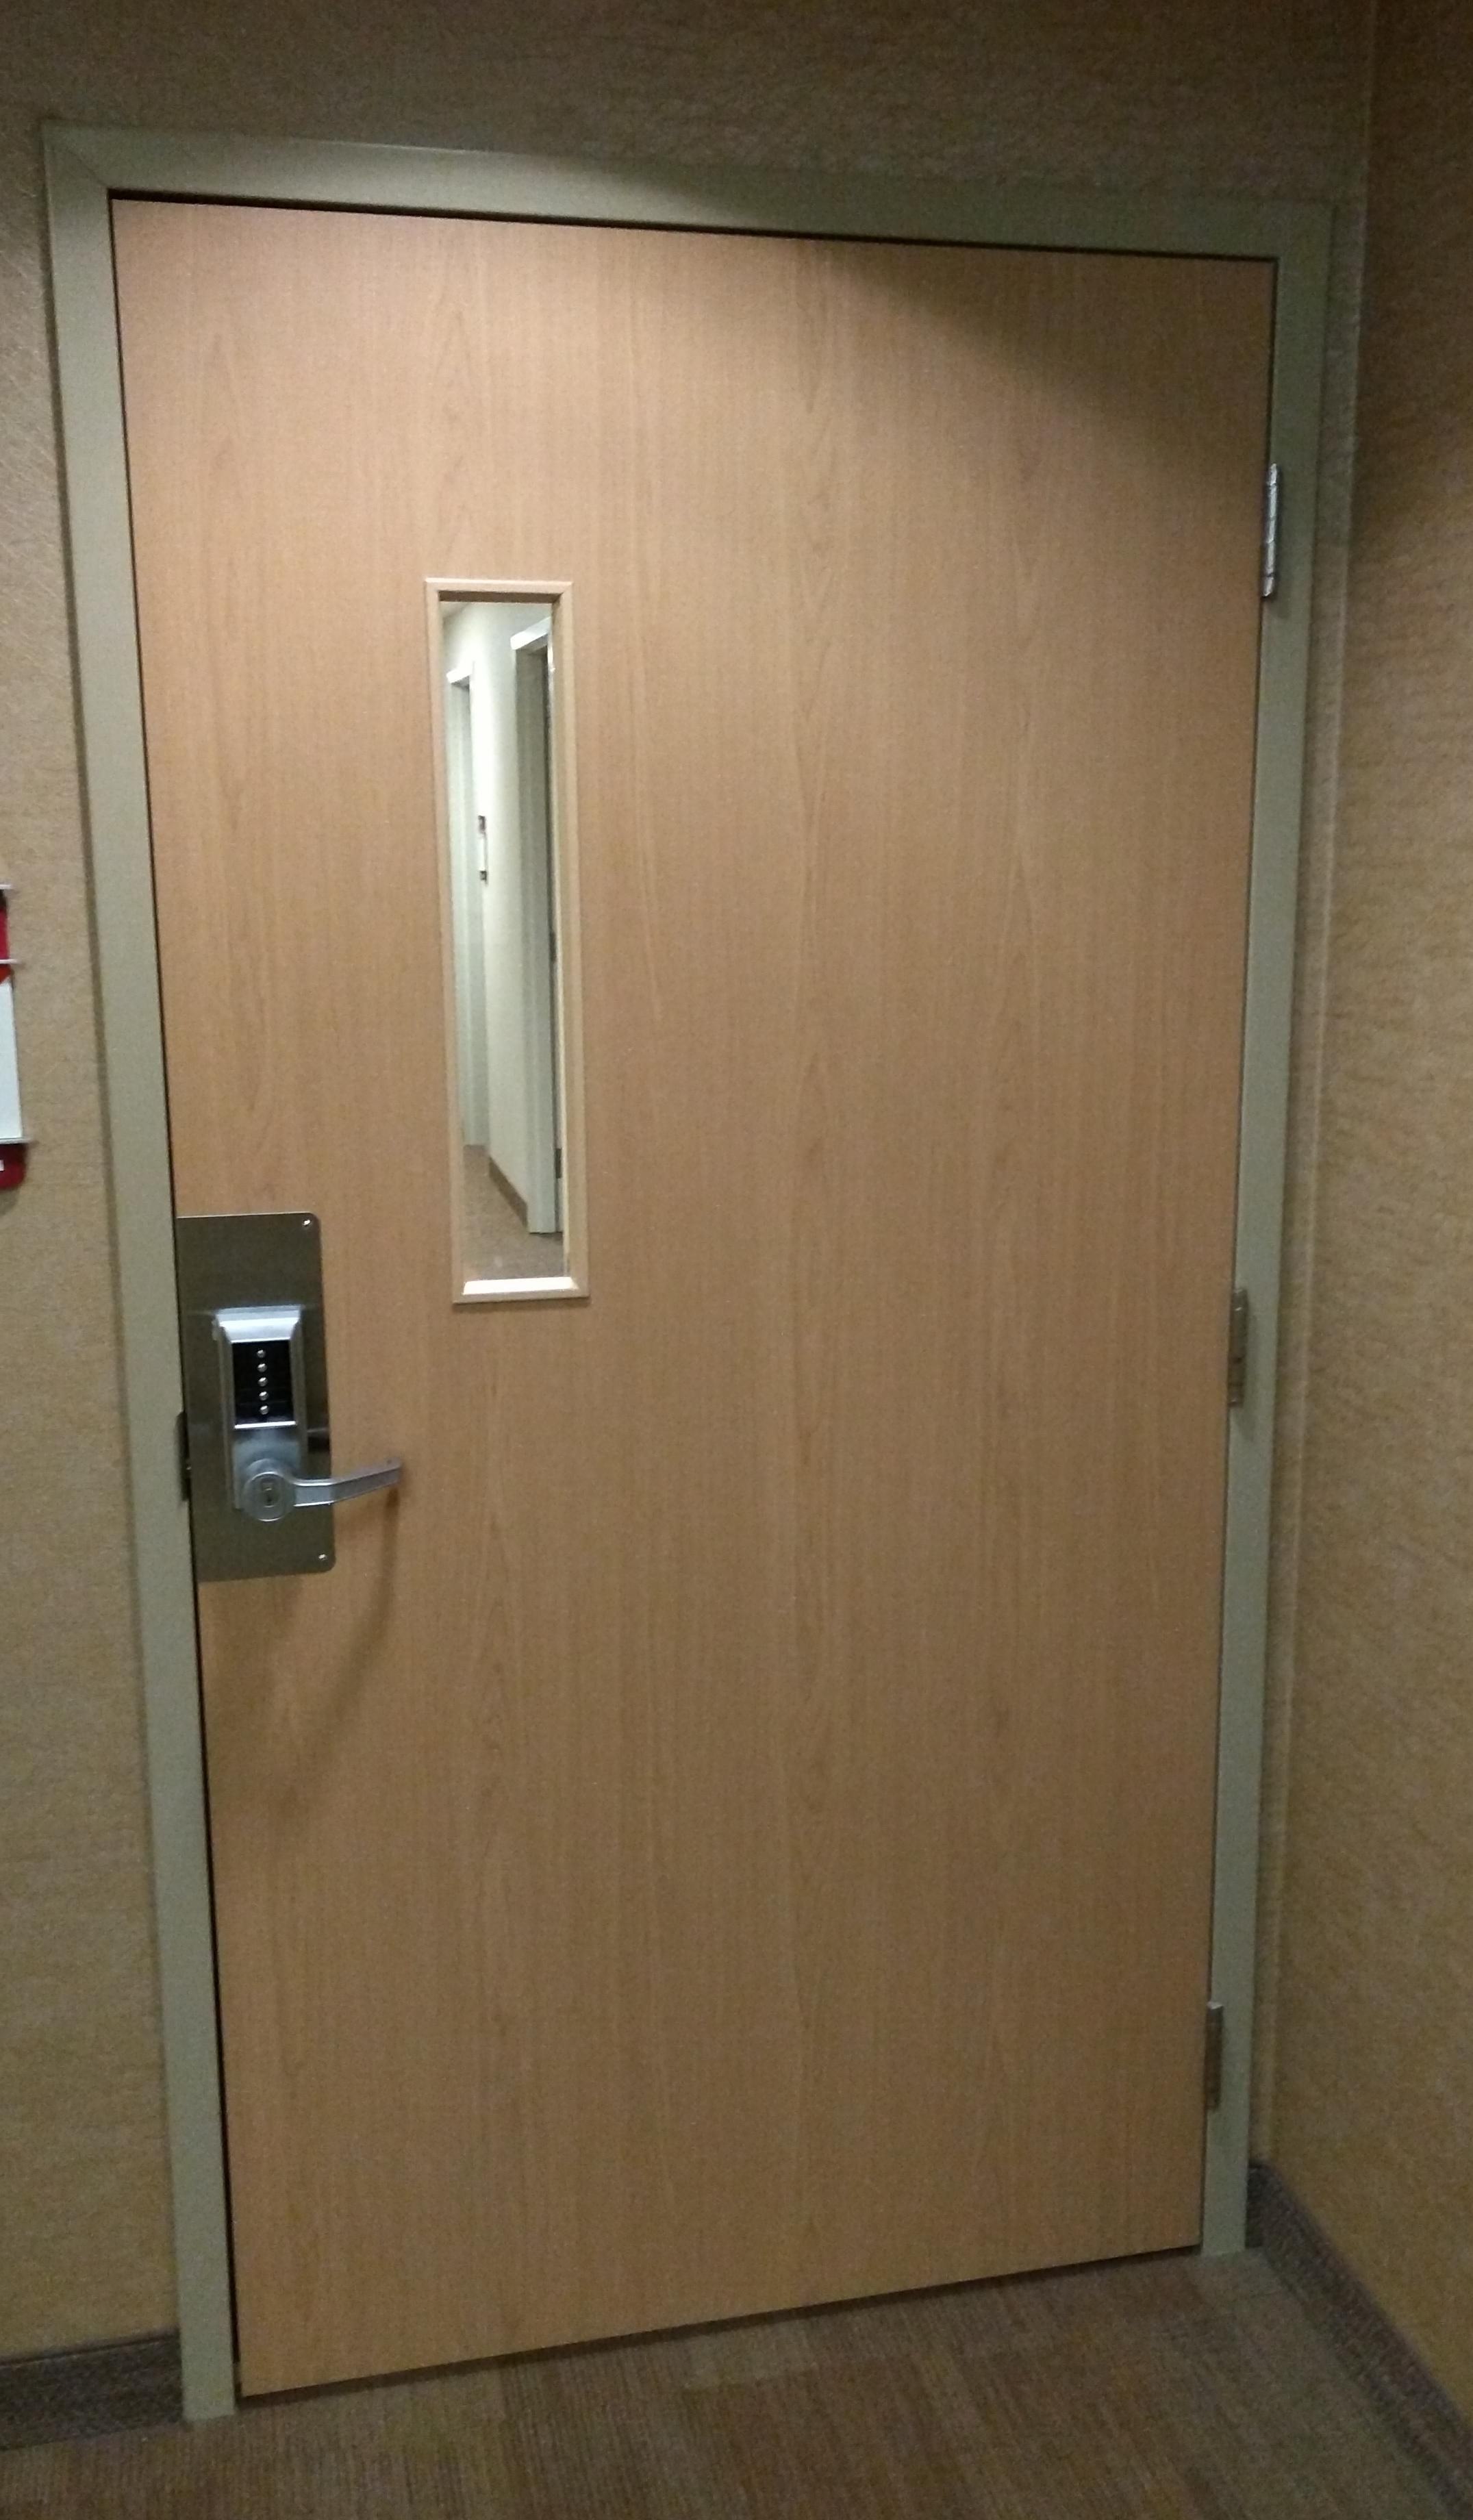door: (95, 188, 1264, 2341)
